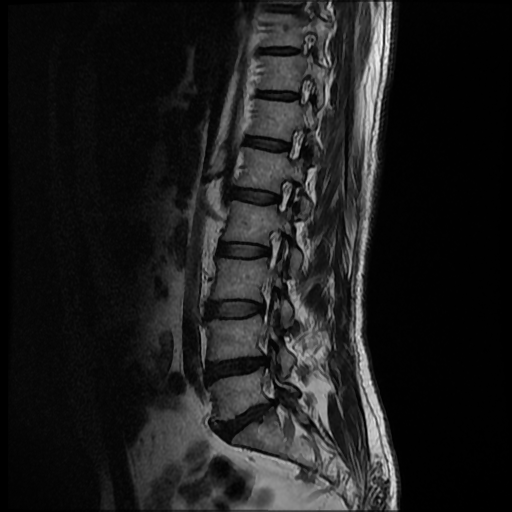LFS0: (268, 167, 305, 226), (256, 222, 293, 277)
